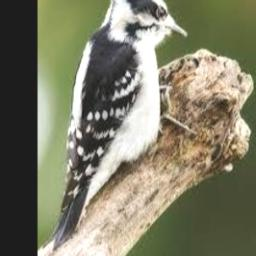Woodpecker: (43, 0, 198, 250)
